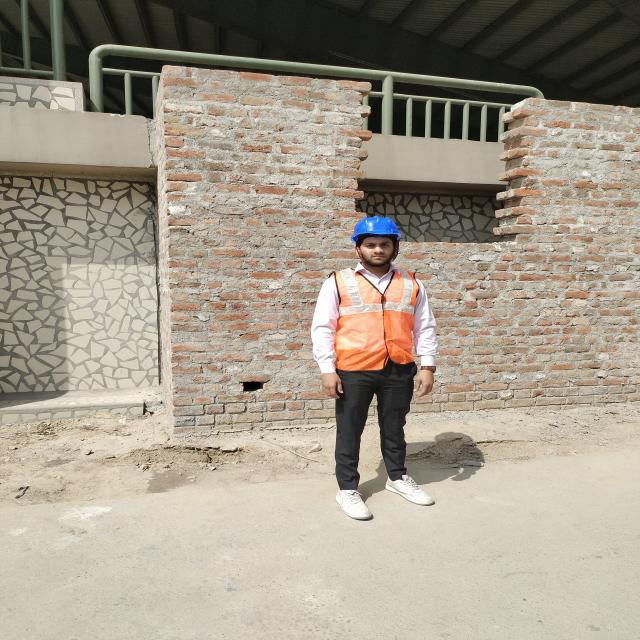safe: (310, 216, 438, 520)
